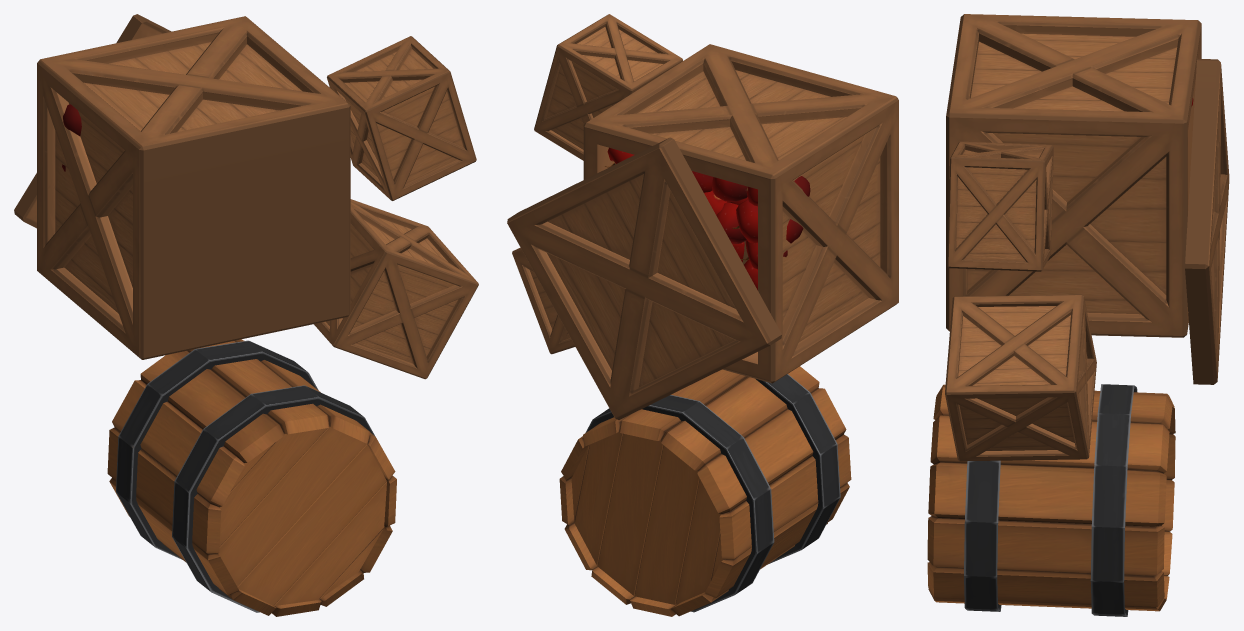
File: caja.fbx
The picture shows the model from 3 angles, left to right: view 1: azimuth 30°, elevation 25°; view 2: azimuth 150°, elevation 25°; view 3: azimuth 270°, elevation 25°; orthographic projection. The views are drawn at different scales.
Visible parts, largest first — view 1: Cajaabierta, Barril.000, Caja.001, Caja, Tapa; view 2: Cajaabierta, Barril.000, Tapa, Caja, Manzanas, Caja.001; view 3: Cajaabierta, Barril.000, Caja.001, Caja, Tapa.
Boxes of the visible parts, x1,y1,x2,y2 form: Cajaabierta: (37, 16, 350, 359); Barril.000: (107, 339, 396, 616); Caja.001: (314, 199, 478, 379); Caja: (327, 36, 476, 200); Tapa: (14, 14, 171, 228); Cajaabierta: (583, 44, 898, 383); Barril.000: (559, 366, 851, 616); Tapa: (507, 137, 781, 419); Caja: (534, 14, 682, 160); Manzanas: (605, 147, 810, 290); Caja.001: (512, 247, 575, 354); Cajaabierta: (946, 14, 1201, 337); Barril.000: (927, 384, 1175, 616); Caja.001: (945, 294, 1096, 461); Caja: (947, 141, 1053, 271); Tapa: (1185, 58, 1229, 384).
Size of the model in its own units: 131 by 188 by 97.56.
